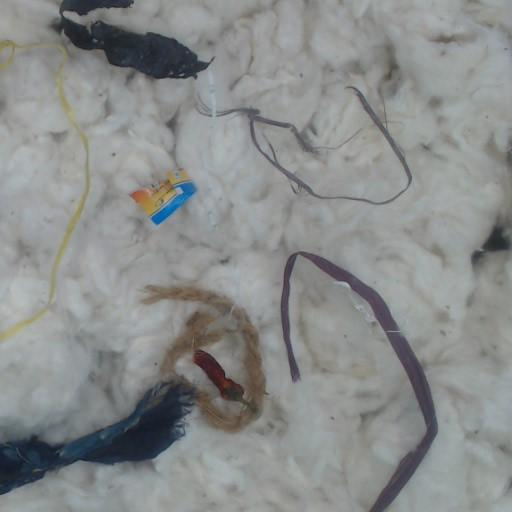cloth: (0, 380, 195, 494), (53, 0, 213, 79), (473, 225, 510, 263)
cotton: (0, 0, 511, 511), (0, 47, 83, 331)
jute: (142, 285, 265, 432)
packet: (130, 169, 196, 225)
thread: (280, 251, 437, 511), (0, 42, 89, 341), (199, 82, 411, 205)
